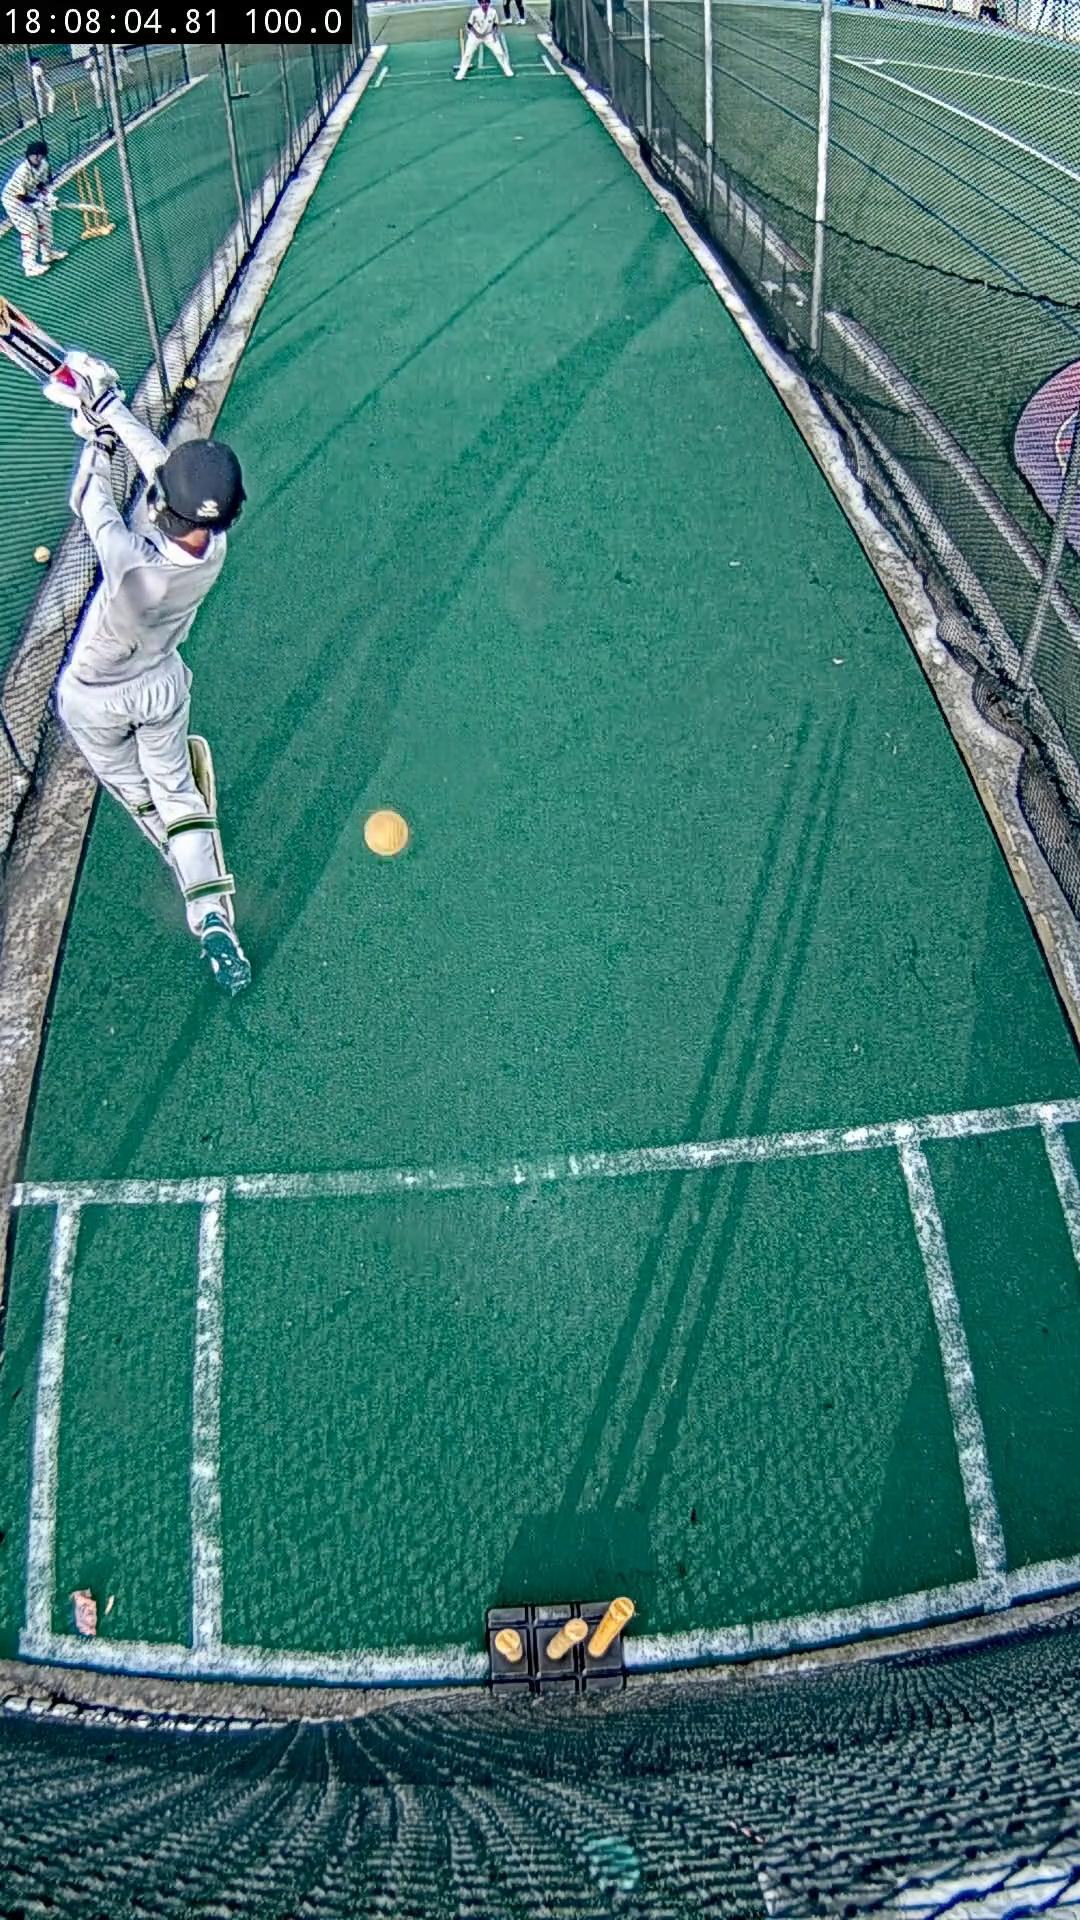ball: (364, 810, 409, 855)
bat: (0, 297, 67, 382)
gloves: (45, 348, 120, 439)
helmet: (157, 439, 244, 537)
pads: (187, 735, 218, 814)
stumps: (488, 1597, 634, 1695)
